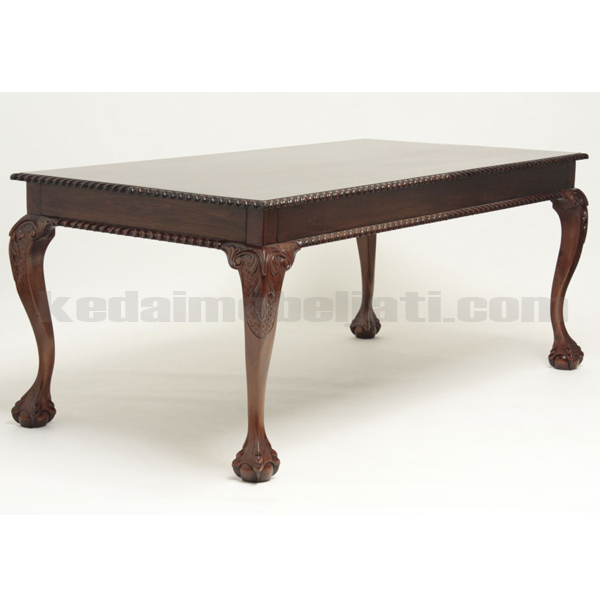Carving Table: (25, 147, 600, 474)
